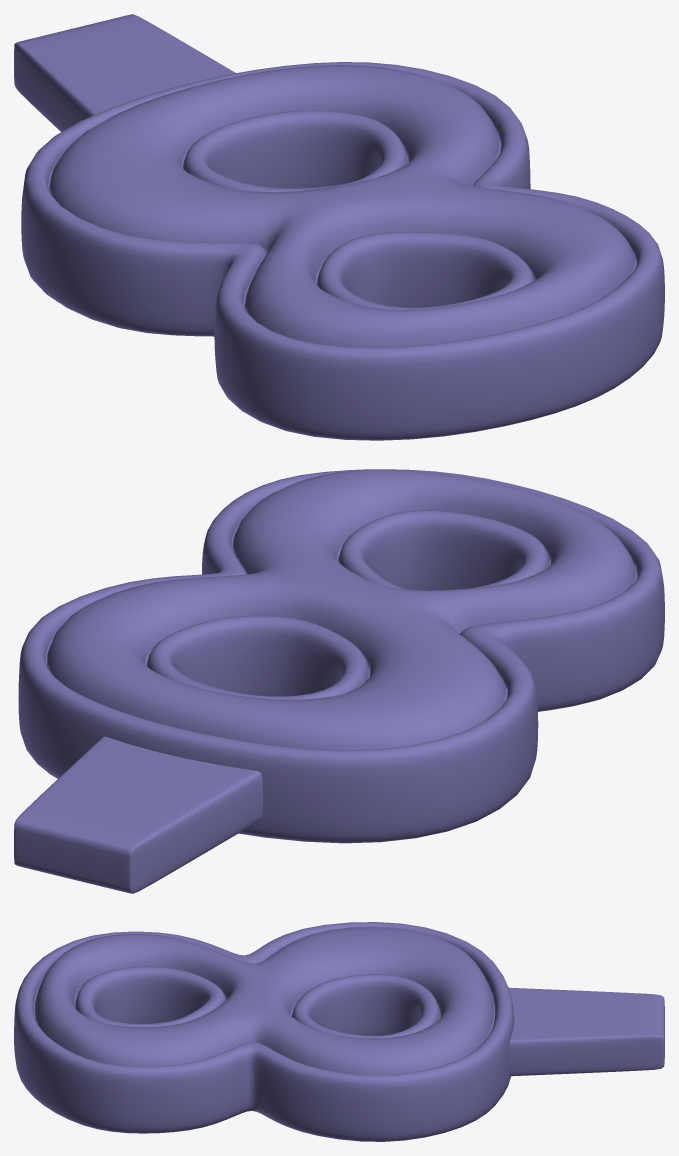
3 renders of one model, top to bottom at view 1: azimuth 30°, elevation 25°; view 2: azimuth 150°, elevation 25°; view 3: azimuth 270°, elevation 25°, orthographic. The views are drawn at different scales.
Visible parts, largest first — view 1: _Number_8_v1:_Number_8_v1; view 2: _Number_8_v1:_Number_8_v1; view 3: _Number_8_v1:_Number_8_v1.
Boxes of the visible parts, x1,y1,x2,y2 form: _Number_8_v1:_Number_8_v1: (14, 14, 664, 440); _Number_8_v1:_Number_8_v1: (14, 469, 664, 893); _Number_8_v1:_Number_8_v1: (14, 922, 664, 1141).
Bounding box in the file's own units: 7.61 × 1.98 × 12.91.
